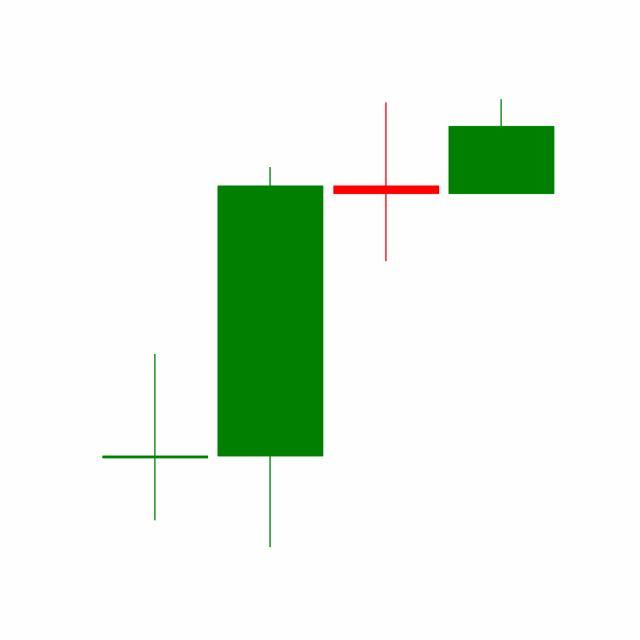Spinning Top: (328, 101, 444, 263)
